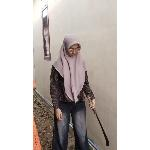Golok: (87, 93, 115, 149)
